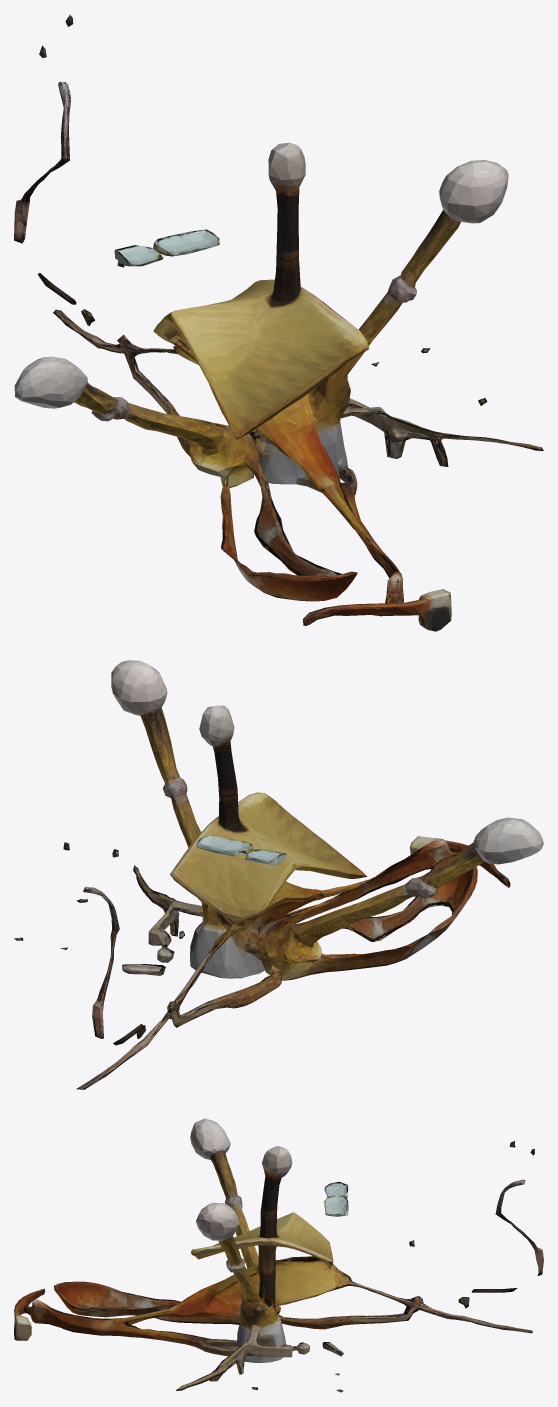
File: apollo-118.glb
3 views of the same model, one above another, from view 1: azimuth 30°, elevation 25°; view 2: azimuth 150°, elevation 25°; view 3: azimuth 270°, elevation 25° (orthographic). The views are drawn at different scales.
Parts seen in each view (by area): view 1: world; view 2: world; view 3: world.
Boxes of the visible parts, bbox=[...] form: world: bbox=[14, 14, 543, 631]; world: bbox=[14, 660, 543, 1089]; world: bbox=[14, 1118, 543, 1392].
Bounding box in the file's own units: 0.7267 × 0.4455 × 0.9943.
1 material, 1 textured.
